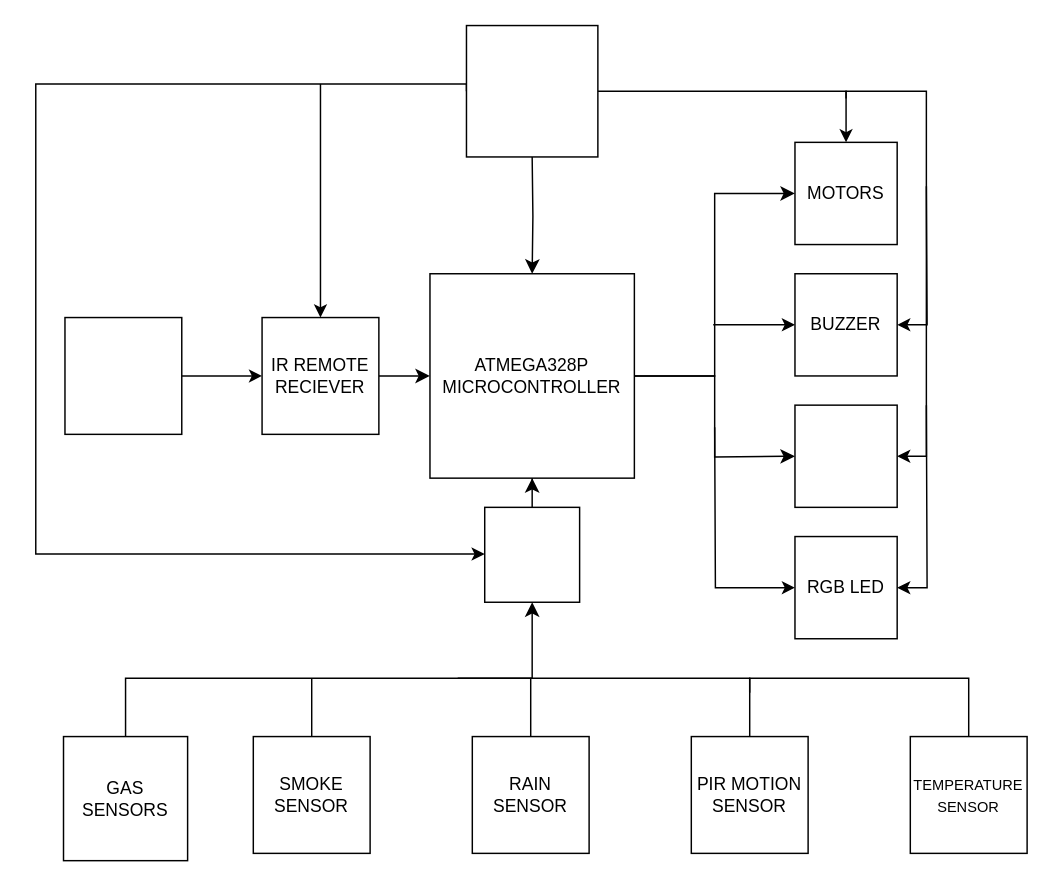
Some shapes in this 1053 by 886 pixel diagram are drawn without their labels. Each missing label, with the box of its shape:
IR REMOTE CONTROL: (64, 316, 182, 434)
LCD DISPLAY: (794, 404, 897, 507)
POWER SUPPLY UNIT: (465, 24, 598, 157)
SENSORS: (483, 506, 580, 602)
